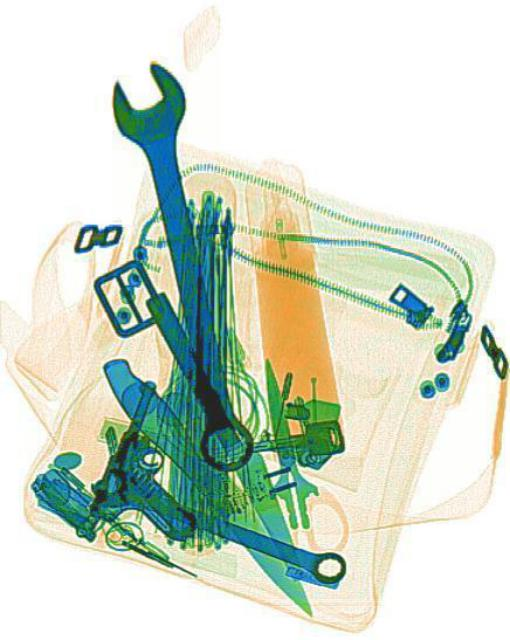Gun: (84, 374, 233, 558)
Knife: (92, 344, 324, 628), (141, 282, 315, 584), (240, 352, 322, 534)
Wrench: (100, 52, 268, 482), (82, 457, 348, 591)
